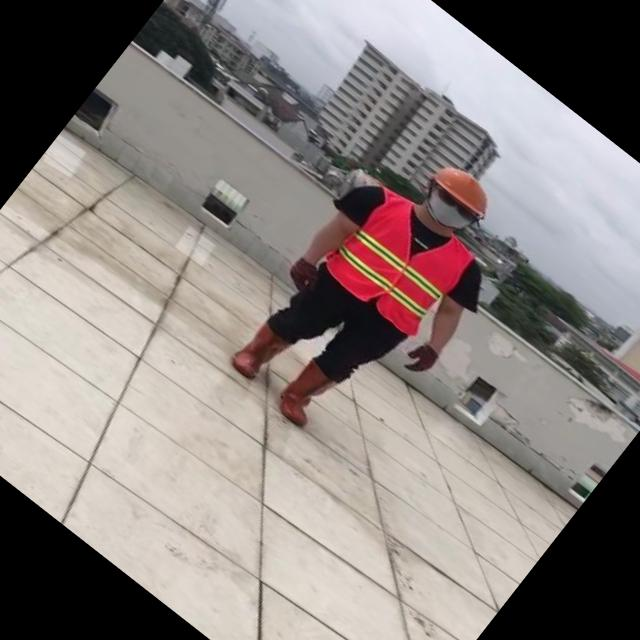hard_hat: (427, 155, 504, 225)
safety_vest: (318, 182, 480, 342)
vehicle: (202, 109, 551, 478)
work_boots: (271, 355, 342, 430), (227, 314, 296, 388)
